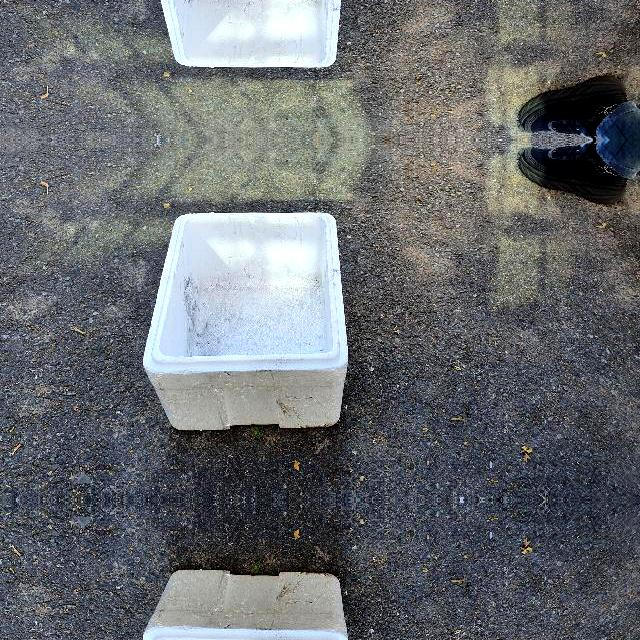Styrofoam: (142, 212, 348, 430), (143, 212, 348, 430), (141, 570, 348, 640), (143, 570, 348, 640), (141, 0, 348, 67), (160, 0, 341, 68)
